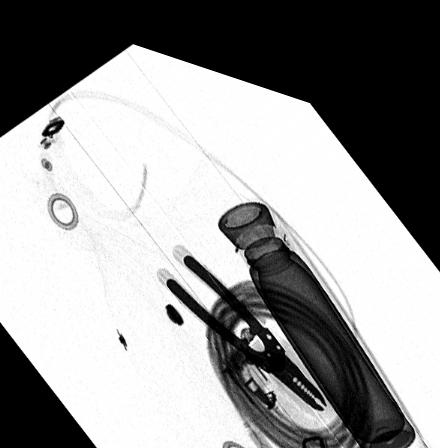Pliers: (163, 240, 327, 389)
